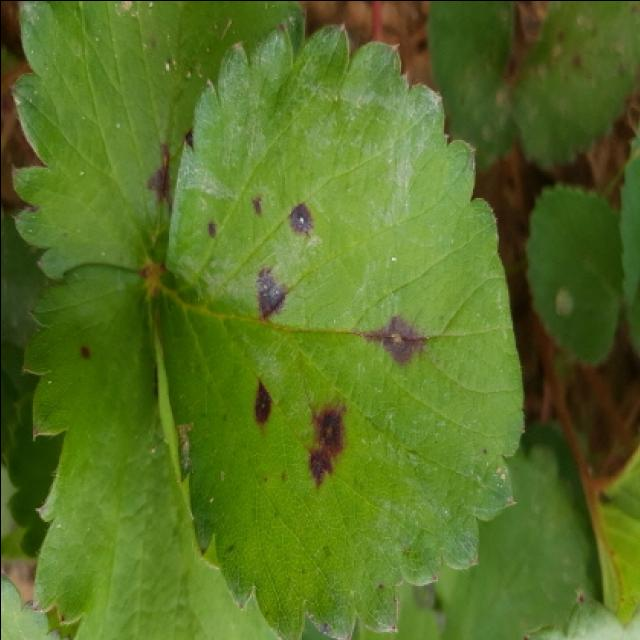Leaf Spot: (148, 22, 526, 640), (20, 262, 278, 640), (7, 2, 307, 279), (505, 2, 640, 170)
